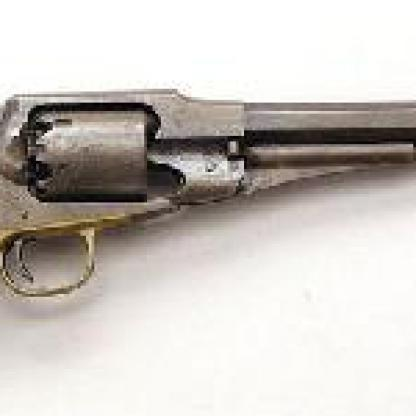gun: (0, 72, 413, 411)
